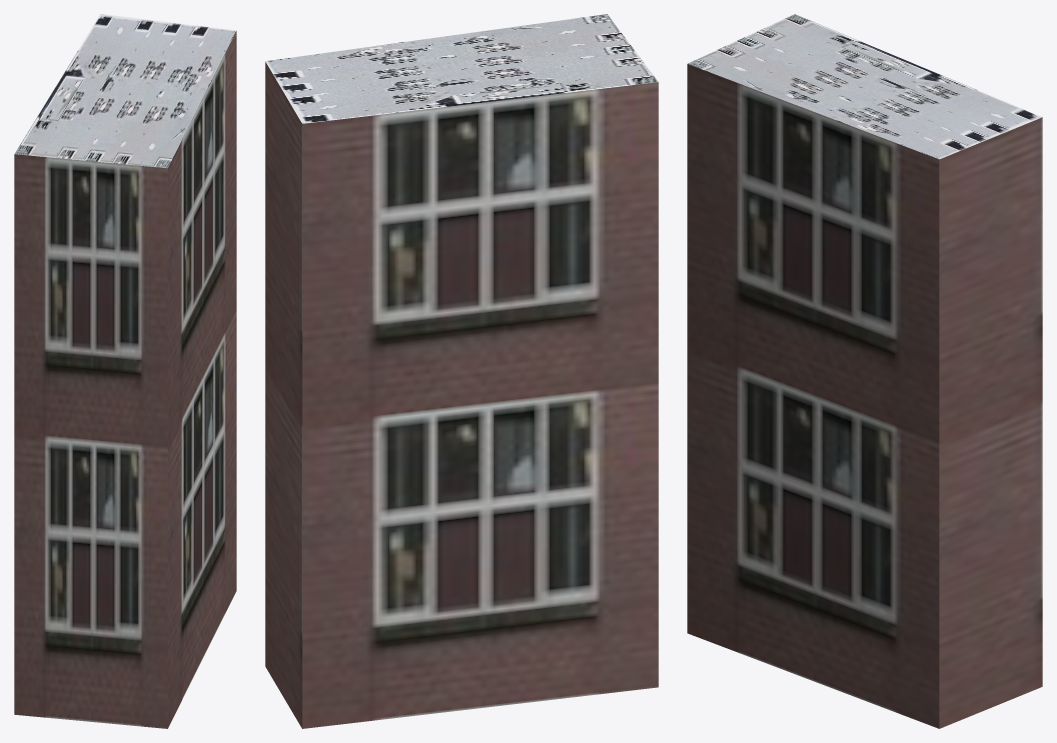
The model's file is ResTex__1194.fbx.
The picture shows the model from 3 angles, left to right: view 1: azimuth 30°, elevation 25°; view 2: azimuth 150°, elevation 25°; view 3: azimuth 270°, elevation 25°; orthographic projection. The views are drawn at different scales.
Parts seen in each view (by area): view 1: CityEngineMaterial_12_m, CityEngineMaterial_m; view 2: CityEngineMaterial_12_m, CityEngineMaterial_m; view 3: CityEngineMaterial_12_m, CityEngineMaterial_m.
Part boxes in pixels (x1,y1,x2,y2): CityEngineMaterial_12_m: [14, 31, 236, 728]; CityEngineMaterial_m: [14, 14, 236, 168]; CityEngineMaterial_12_m: [265, 62, 658, 728]; CityEngineMaterial_m: [265, 14, 658, 123]; CityEngineMaterial_12_m: [687, 64, 1042, 728]; CityEngineMaterial_m: [687, 14, 1042, 159].
Bounding box in the file's own units: 3.29 × 6 × 3.39.
2 materials, 2 textured.
